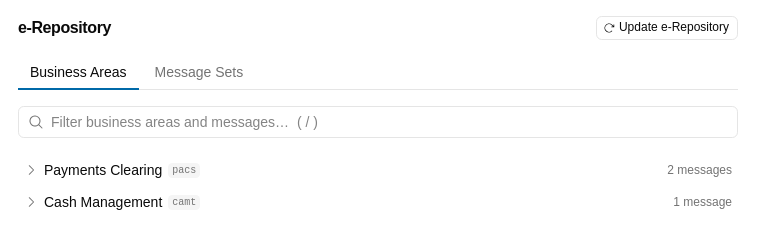
it: ERepositoryBrowser › filters to matching messages and force-expands their area
In the search field: (378, 122) [18,106,738,138], type "camt.053"
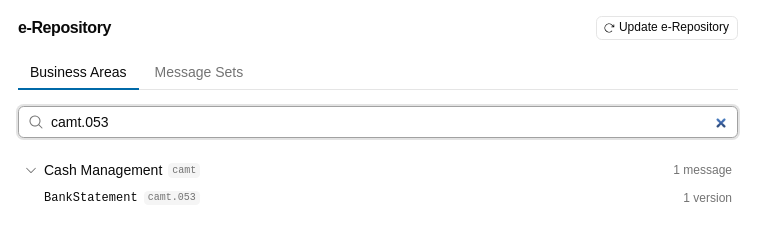
Now the list item "BankStatement camt.053 1 version" is shown, box [44,191,732,205]
